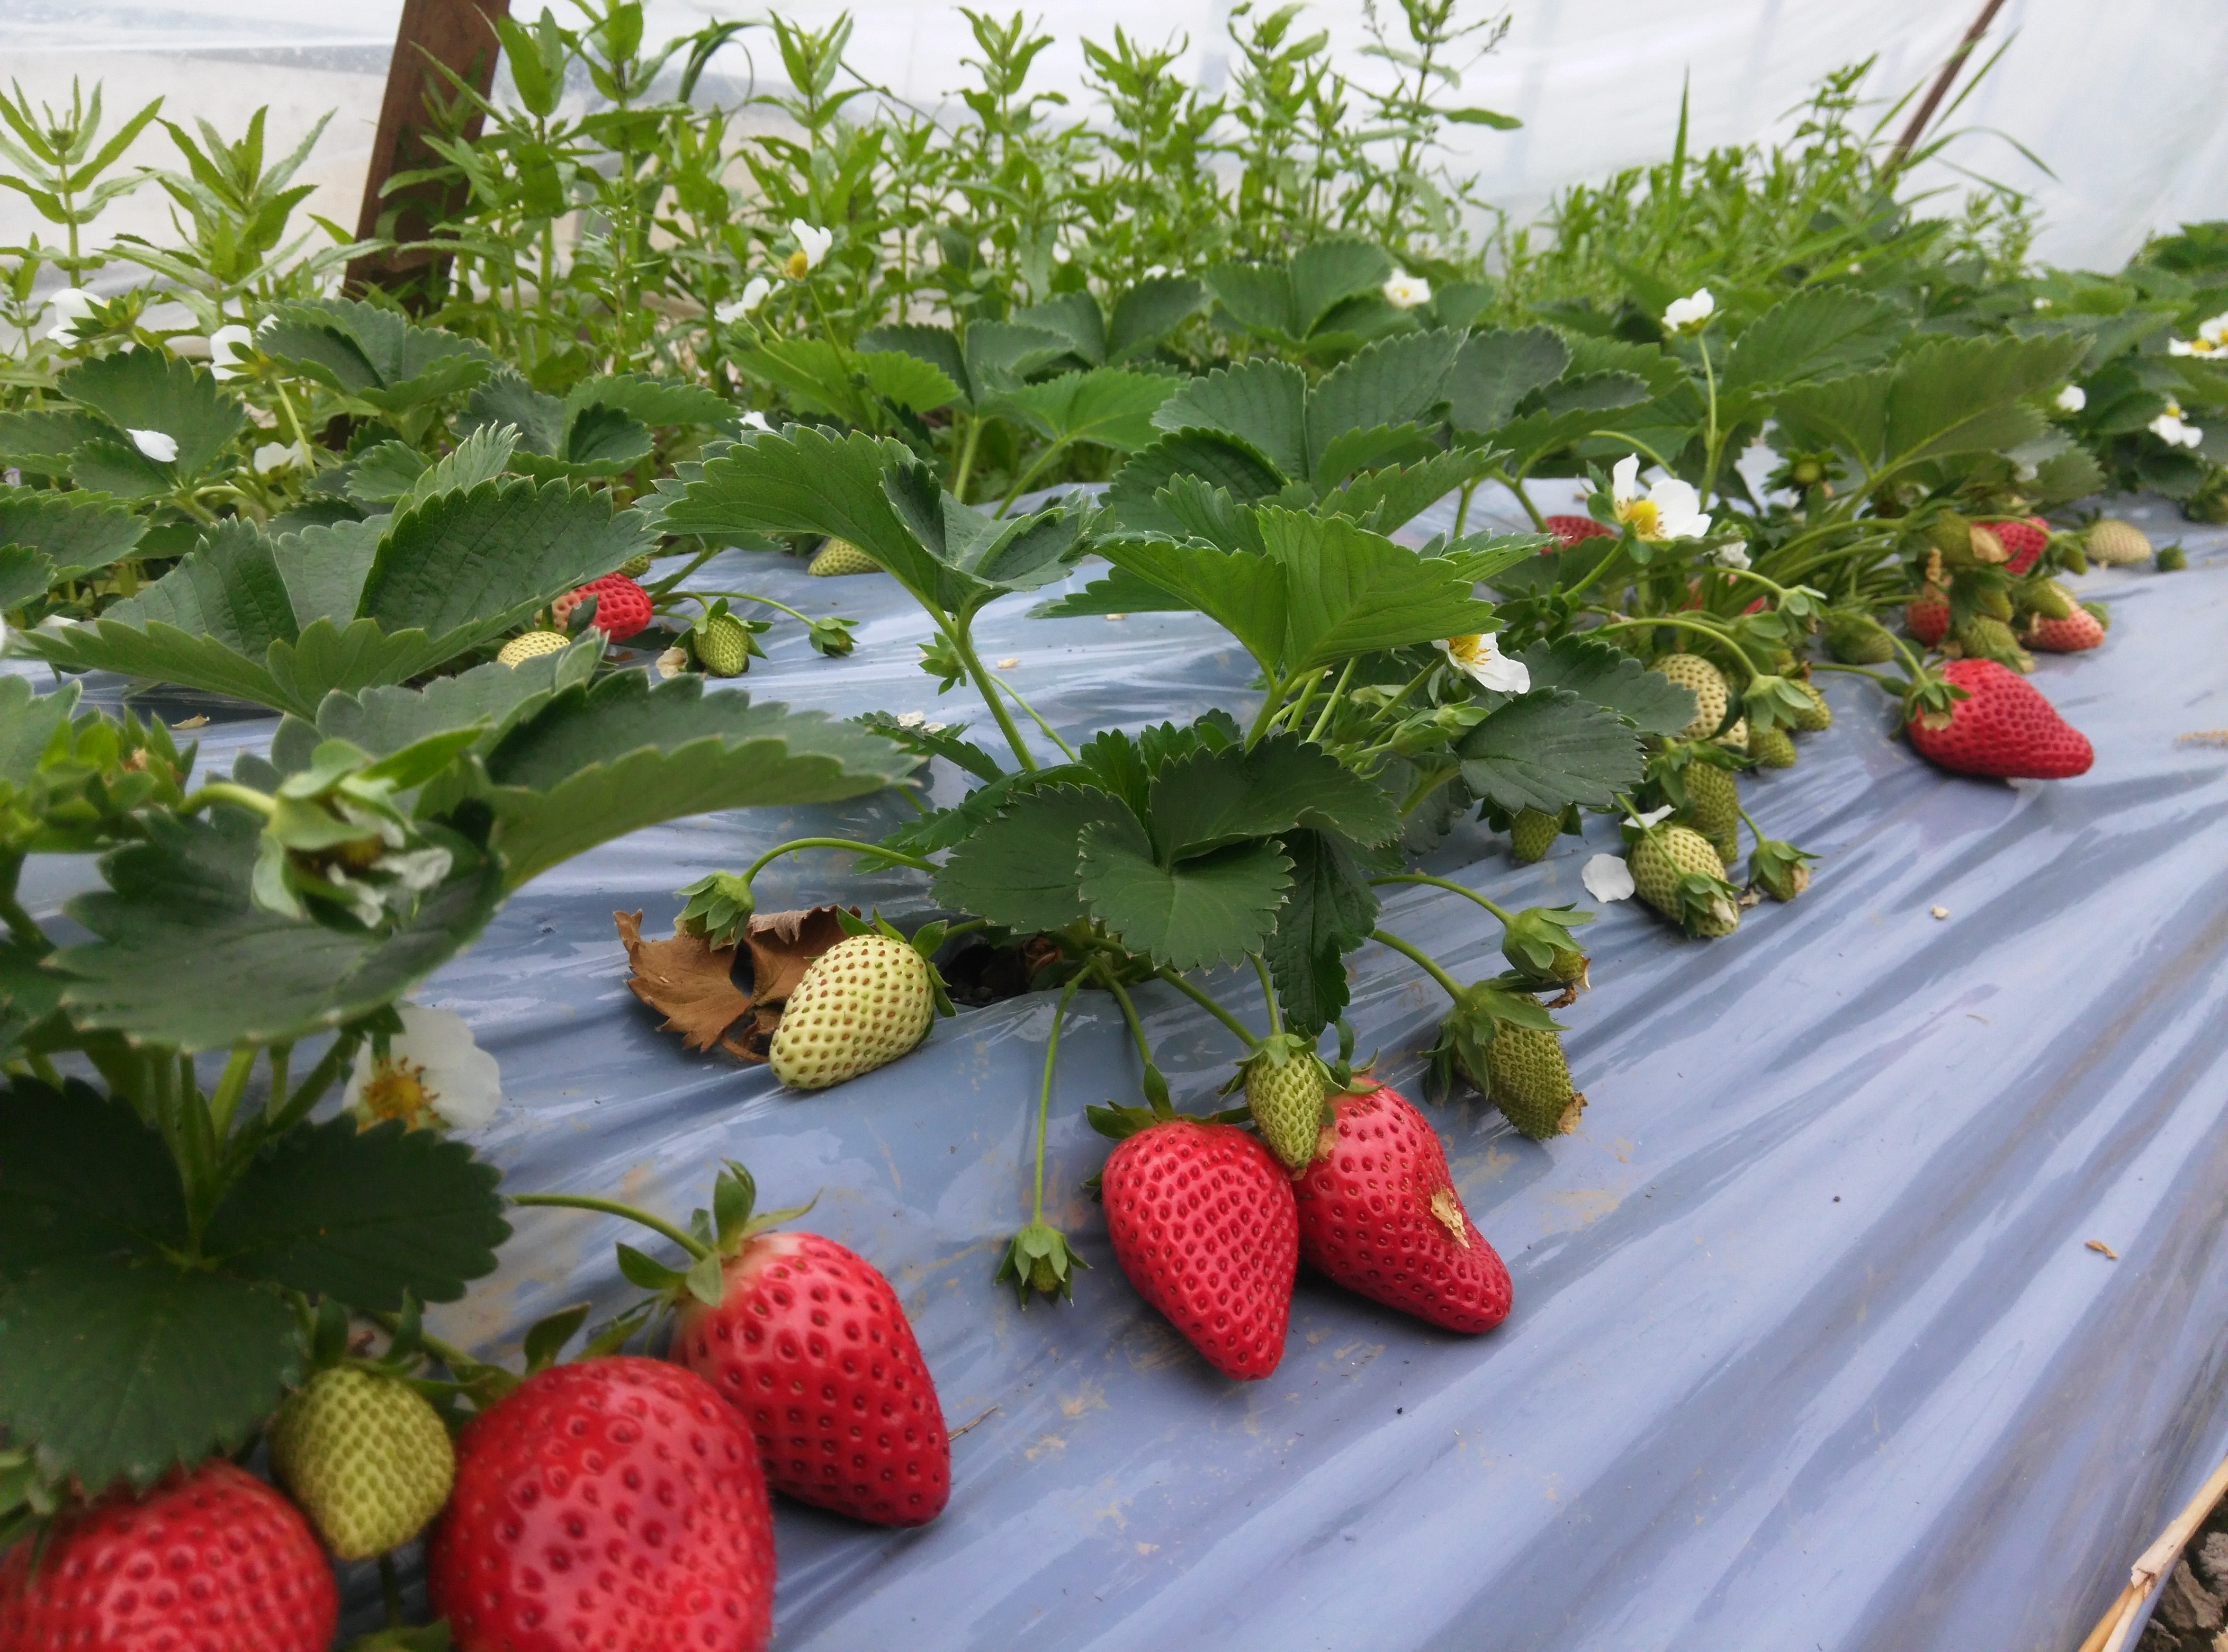StrawberryFusiform: (672, 1208, 967, 1539)
StrawberryIrremovable: (281, 1350, 456, 1555), (760, 927, 944, 1088), (1447, 977, 1584, 1147), (1622, 807, 1747, 947), (1241, 1031, 1333, 1152), (1643, 640, 1735, 741), (1746, 666, 1832, 767), (1504, 897, 1598, 986), (1497, 784, 1574, 873), (678, 606, 769, 678), (803, 517, 899, 585), (486, 619, 578, 689), (1954, 599, 2034, 665), (2023, 588, 2108, 649), (2074, 514, 2160, 566)
StrawberryOther: (432, 1354, 777, 1629), (3, 1451, 338, 1633), (543, 560, 672, 639), (1957, 493, 2067, 574)
StrawberryRemovable: (437, 1359, 774, 1636), (672, 1213, 965, 1531), (1086, 1093, 1308, 1385), (1291, 1067, 1510, 1338), (5, 1465, 333, 1638), (1907, 661, 2098, 786), (548, 566, 666, 640), (1963, 498, 2067, 574)
StrawberryWedge: (1081, 1091, 1314, 1388), (1286, 1065, 1513, 1340), (1902, 661, 2100, 786)
